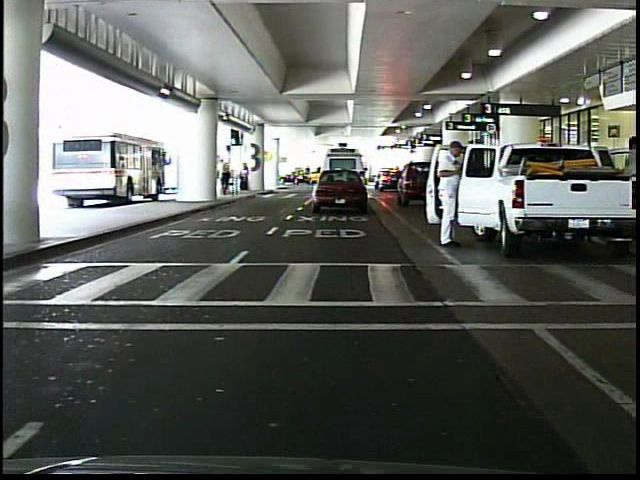person: (431, 136, 461, 249), (617, 134, 639, 191), (220, 156, 233, 198), (238, 163, 254, 195)
